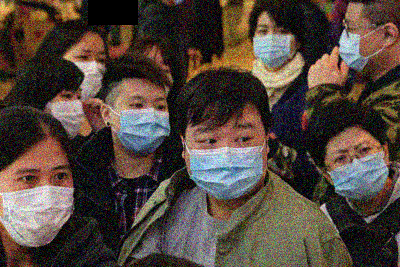with_mask: (187, 120, 268, 202), (1, 162, 74, 246), (329, 138, 390, 204), (114, 92, 172, 156), (338, 15, 380, 74), (65, 45, 107, 101), (252, 22, 296, 71), (49, 87, 85, 138)
